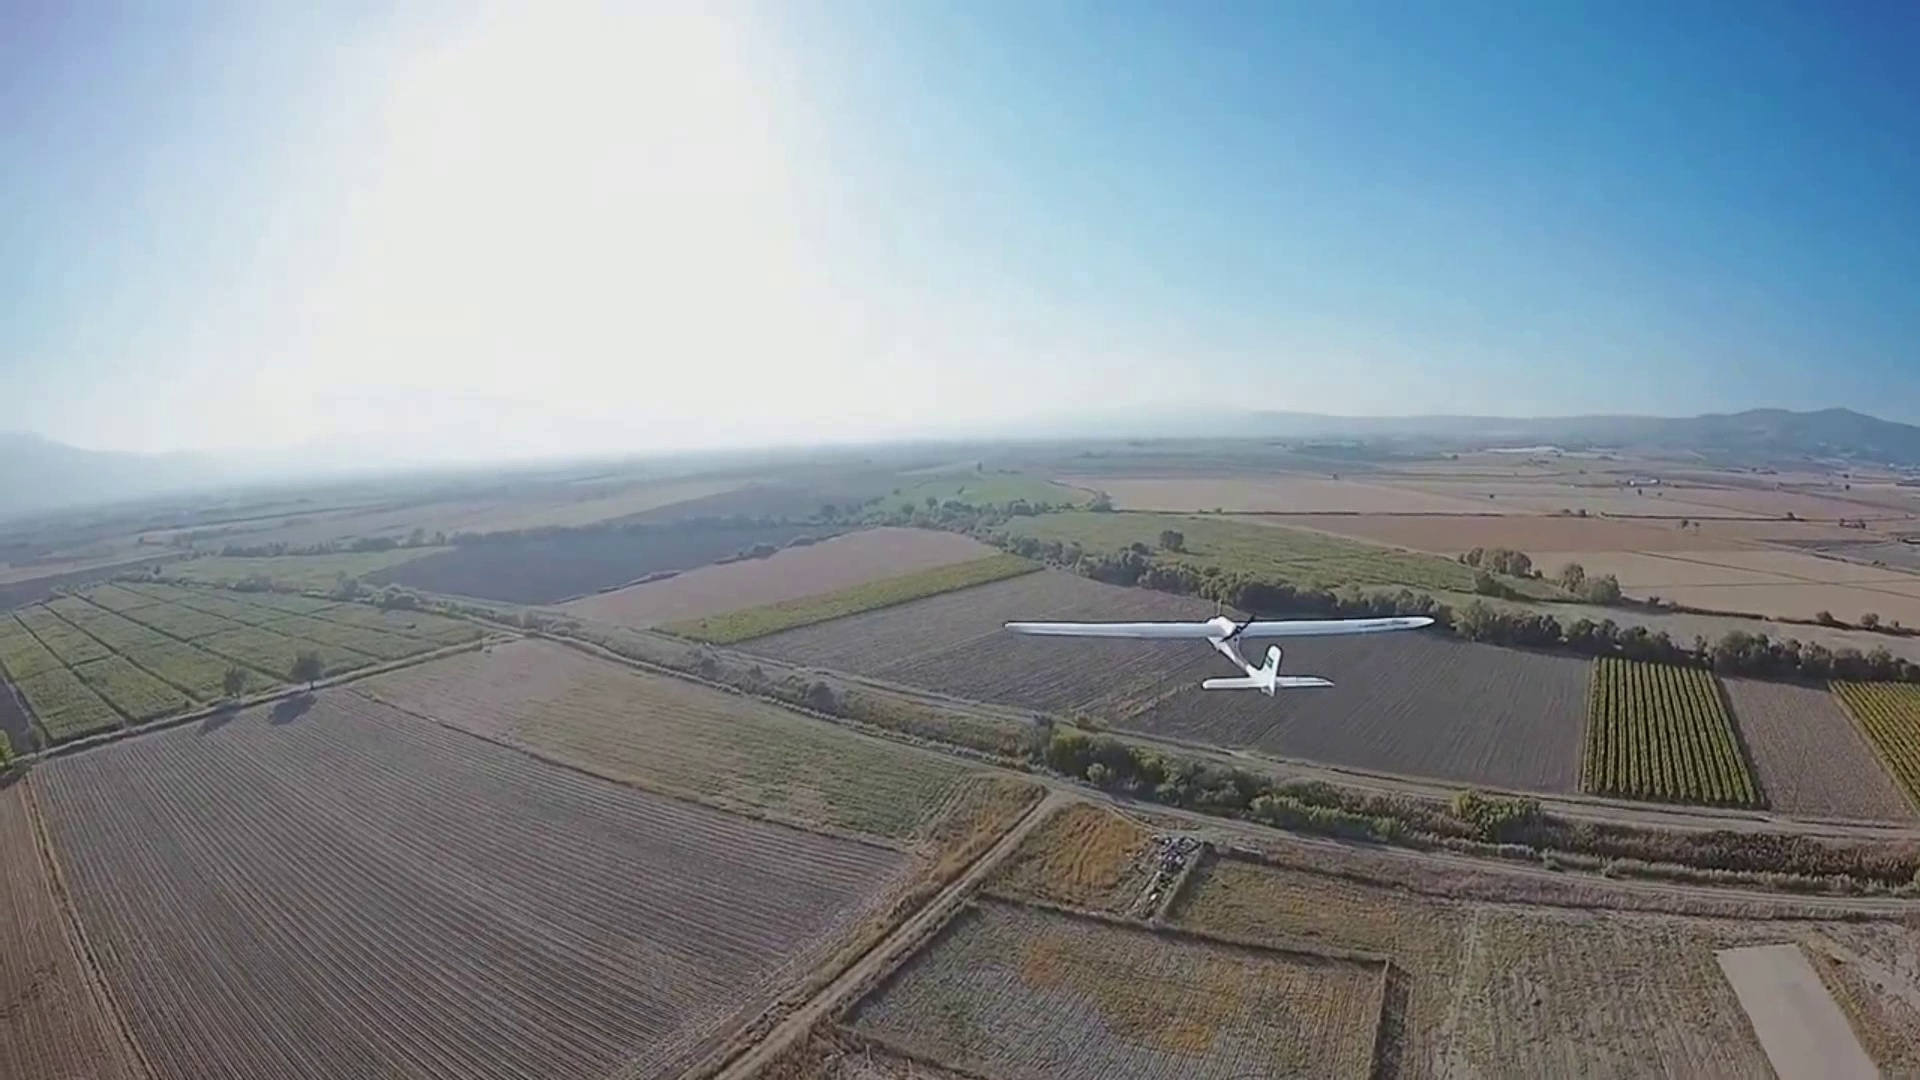airplane: (1203, 618, 1282, 687)
